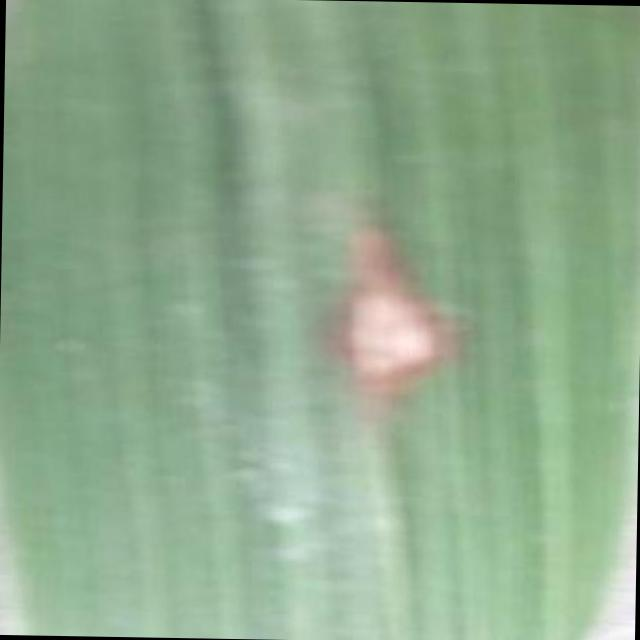Rice_Blast: (314, 198, 486, 451)
